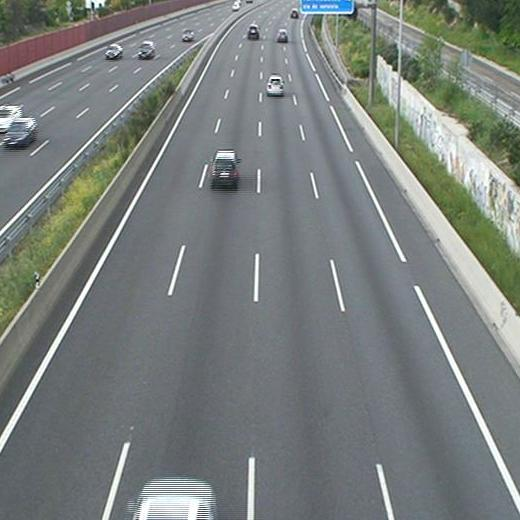car: (209, 148, 240, 190), (267, 74, 284, 97), (248, 24, 259, 40), (277, 28, 288, 44)
